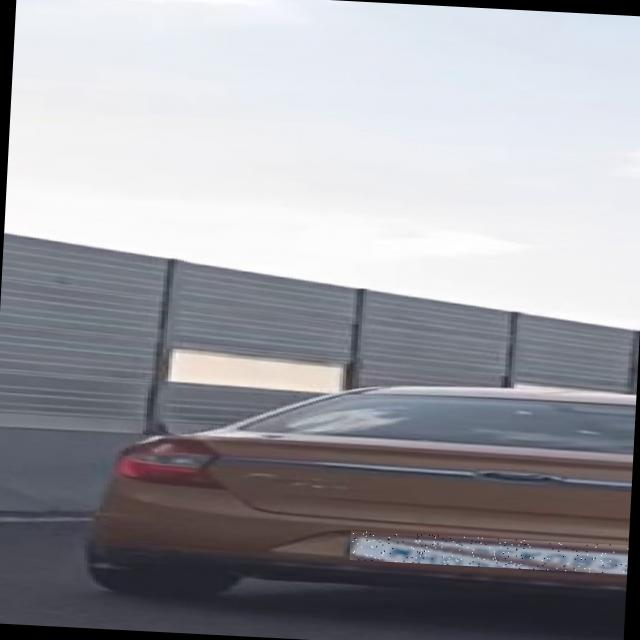Plate: (351, 532, 630, 576)
